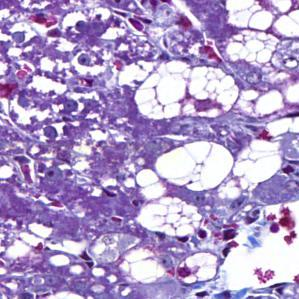ballooning: (116, 58, 242, 124), (150, 138, 235, 194), (134, 193, 205, 240), (219, 28, 281, 66), (118, 246, 170, 287), (173, 248, 222, 286)
